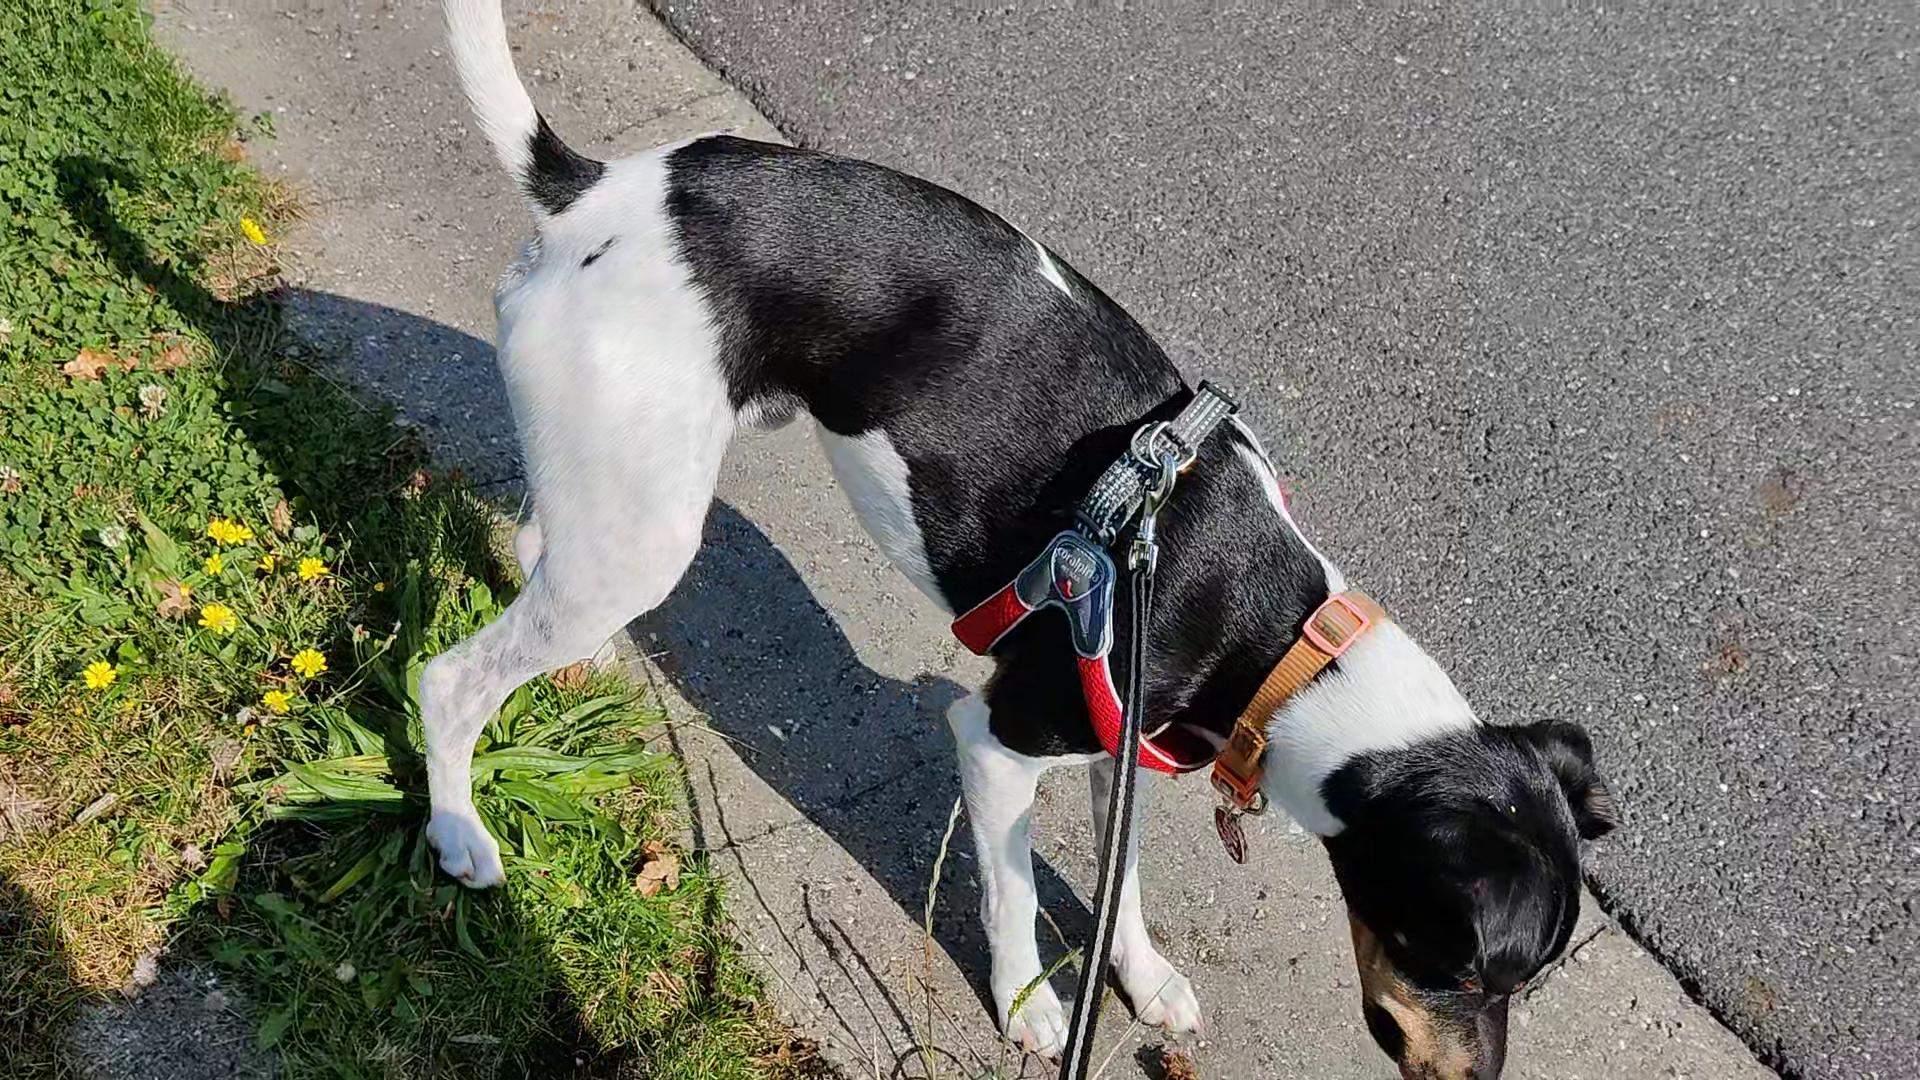Dog: (417, 0, 1629, 1079)
